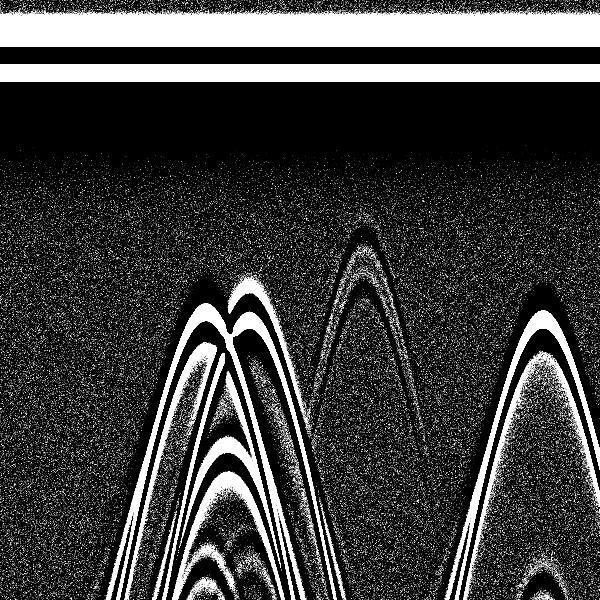pipe: (153, 6, 252, 384), (492, 6, 588, 384), (202, 5, 299, 375), (320, 4, 407, 315)
